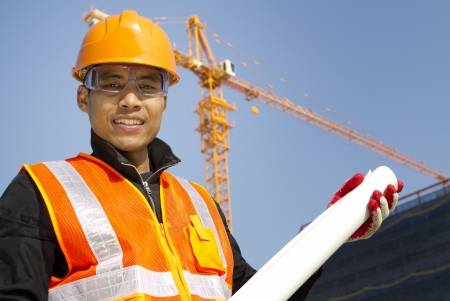casco: (70, 8, 182, 87)
